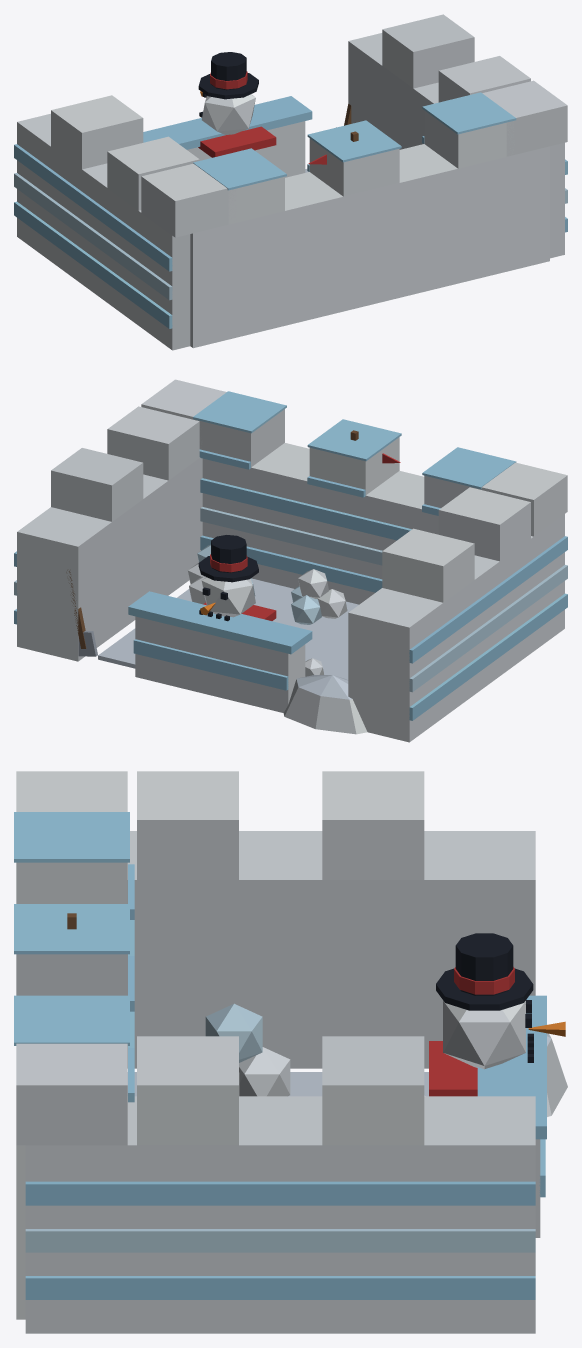
File: Decor_IcePalace_SnowFort.fbx
3 renders of one model, top to bottom at view 1: azimuth 30°, elevation 25°; view 2: azimuth 150°, elevation 25°; view 3: azimuth 270°, elevation 25°, orthographic. The views are drawn at different scales.
Parts seen in each view (by area): view 1: SnowFort_Body; view 2: SnowFort_Body; view 3: SnowFort_Body.
Part boxes in pixels (bbox=[...]): SnowFort_Body: bbox=[14, 14, 567, 350]; SnowFort_Body: bbox=[14, 379, 567, 742]; SnowFort_Body: bbox=[14, 771, 567, 1333].
Size of the model in its own units: 15.4 by 5.9 by 11.3.
